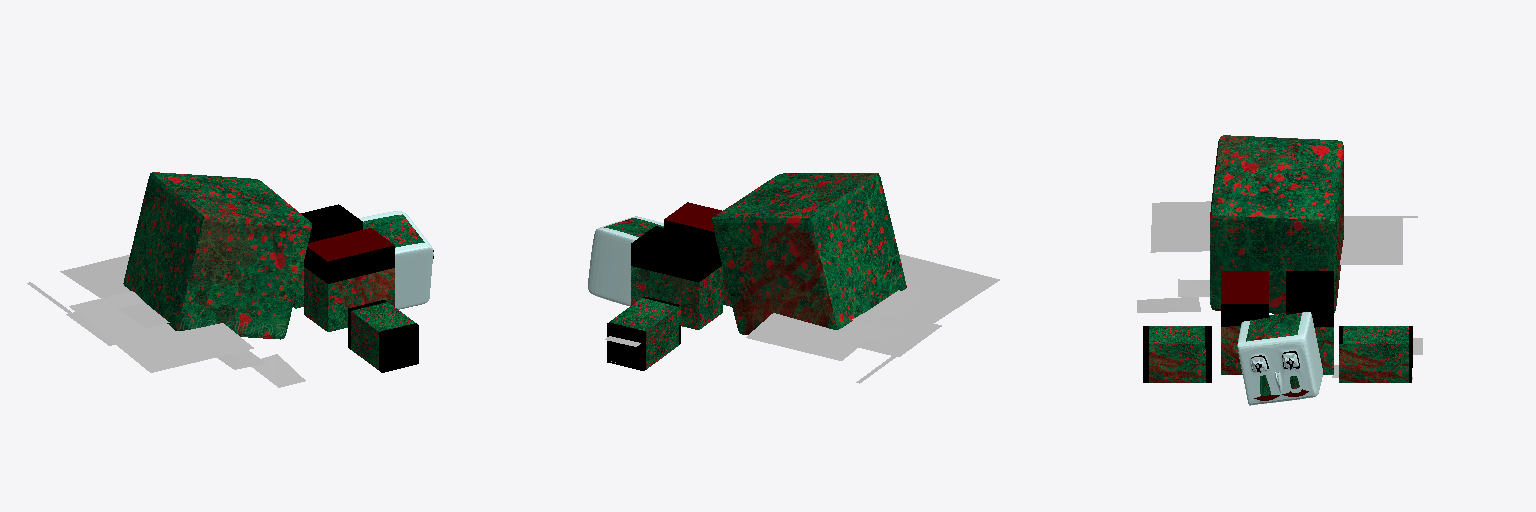
3 renders of one model, left to right at view 1: azimuth 30°, elevation 25°; view 2: azimuth 150°, elevation 25°; view 3: azimuth 270°, elevation 25°, orthographic.
Parts seen in each view (by area): view 1: Cube_Cube.001, CollisionLL_Cube.003, RectT1_Plane, Cube.005_Cube.007, Cube.001_Cube.002, RectT2_Plane.001, Cube.003_Cube.004, RectLA2_Plane.002, RectLA1_Plane.003; view 2: Cube_Cube.001, Cube.003_Cube.004, RectT1_Plane, RectT2_Plane.001, Cube.004_Cube.005, Cube.001_Cube.002, CollisionLL_Cube.003, RectH2_Plane.007; view 3: Cube_Cube.001, Cube.001_Cube.002, Cube.004_Cube.005, Cube.005_Cube.007, CollisionLL_Cube.003, Cube.003_Cube.004, RectT1_Plane, RectT2_Plane.001, RectLA2_Plane.002, RectLA1_Plane.003.
Part boxes in pixels (left/top/right/bottom): Cube_Cube.001: left=123, top=172, right=311, bottom=339; CollisionLL_Cube.003: left=304, top=228, right=394, bottom=331; RectT1_Plane: left=69, top=291, right=253, bottom=372; Cube.005_Cube.007: left=348, top=300, right=418, bottom=372; Cube.001_Cube.002: left=359, top=211, right=433, bottom=309; RectT2_Plane.001: left=60, top=255, right=169, bottom=327; Cube.003_Cube.004: left=293, top=204, right=362, bottom=308; RectLA2_Plane.002: left=252, top=354, right=305, bottom=387; RectLA1_Plane.003: left=217, top=350, right=266, bottom=369; Cube_Cube.001: left=712, top=173, right=906, bottom=334; Cube.003_Cube.004: left=631, top=226, right=722, bottom=329; RectT1_Plane: left=852, top=254, right=999, bottom=335; RectT2_Plane.001: left=746, top=290, right=920, bottom=360; Cube.004_Cube.005: left=607, top=296, right=680, bottom=370; Cube.001_Cube.002: left=588, top=216, right=663, bottom=305; CollisionLL_Cube.003: left=664, top=202, right=731, bottom=306; RectH2_Plane.007: left=859, top=324, right=941, bottom=356; Cube_Cube.001: left=1210, top=135, right=1343, bottom=313; Cube.001_Cube.002: left=1237, top=312, right=1322, bottom=405; Cube.004_Cube.005: left=1339, top=326, right=1412, bottom=382; Cube.005_Cube.007: left=1143, top=326, right=1211, bottom=382; CollisionLL_Cube.003: left=1221, top=271, right=1268, bottom=374; Cube.003_Cube.004: left=1286, top=271, right=1333, bottom=374; RectT1_Plane: left=1150, top=201, right=1211, bottom=252; RectT2_Plane.001: left=1340, top=217, right=1402, bottom=264; RectLA2_Plane.002: left=1137, top=297, right=1200, bottom=312; RectLA1_Plane.003: left=1178, top=279, right=1209, bottom=296.
Bounding box in the file's own units: 4.48 × 2.05 × 3.29.
Materials: 14 (1 with a texture image).